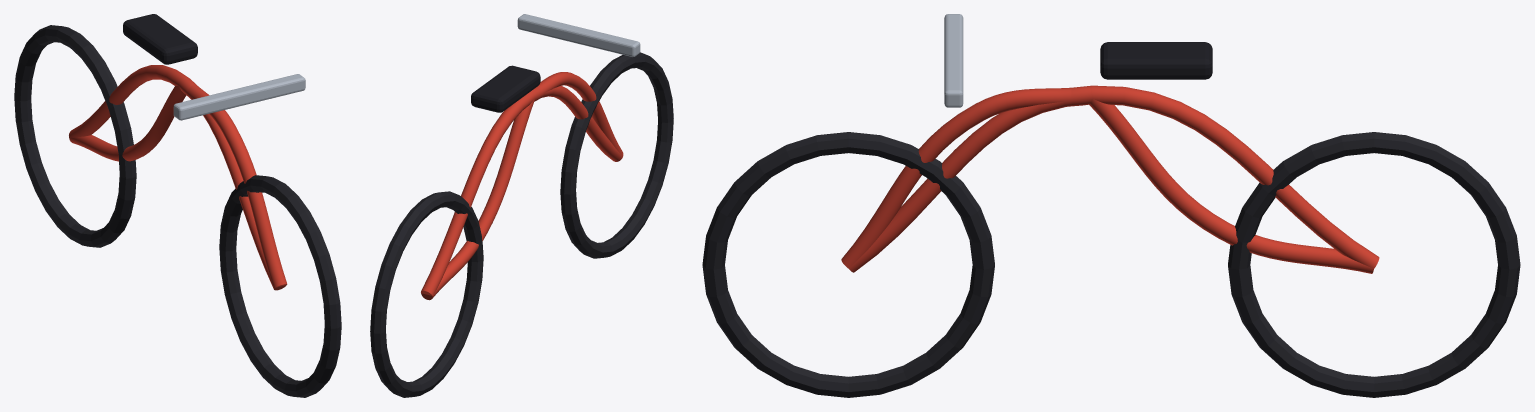
File: bicycle.glb
The picture shows the model from 3 angles, left to right: view 1: azimuth 30°, elevation 25°; view 2: azimuth 150°, elevation 25°; view 3: azimuth 270°, elevation 25°; orthographic projection. The views are drawn at different scales.
Visible parts, largest first — view 1: wheelF, wheelB, frame, frame.002, frame.004, frame.003, frame.001; view 2: wheelB, wheelF, frame, frame.001, frame.004, frame.003, frame.002; view 3: wheelF, wheelB, frame, frame.001, frame.002, frame.003, frame.004.
Part boxes in pixels (<box>): wheelF: <box>219,175,341,397</box>; wheelB: <box>14,25,136,247</box>; frame: <box>69,65,286,290</box>; frame.002: <box>179,78,287,287</box>; frame.004: <box>173,74,305,120</box>; frame.003: <box>123,14,197,64</box>; frame.001: <box>69,85,186,161</box>; wheelB: <box>370,191,483,397</box>; wheelF: <box>560,52,673,258</box>; frame: <box>421,85,622,295</box>; frame.001: <box>421,99,534,300</box>; frame.004: <box>517,14,640,56</box>; frame.003: <box>471,65,540,112</box>; frame.002: <box>531,72,623,156</box>; wheelF: <box>702,132,994,397</box>; wheelB: <box>1228,132,1520,397</box>; frame: <box>849,85,1379,272</box>; frame.001: <box>1089,99,1373,273</box>; frame.002: <box>841,86,1092,268</box>; frame.003: <box>1100,42,1212,79</box>; frame.004: <box>944,14,963,107</box>.
Size of the model in its own units: 0.5 by 1.02 by 2.18.
